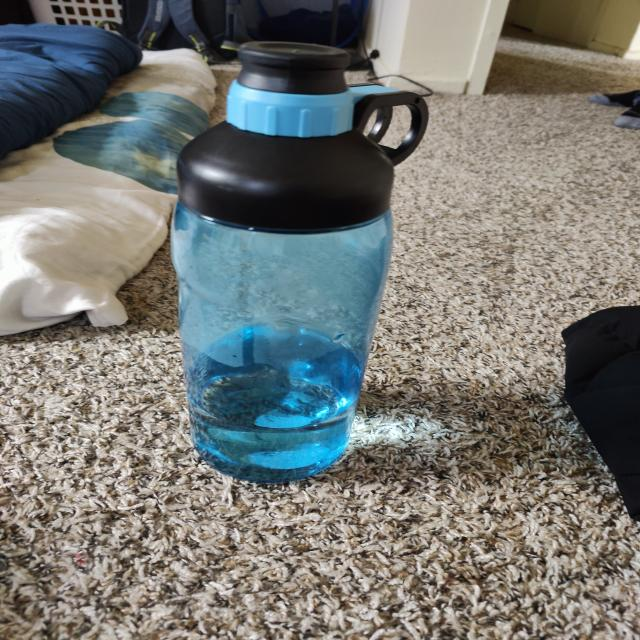bottle: (179, 45, 399, 468)
